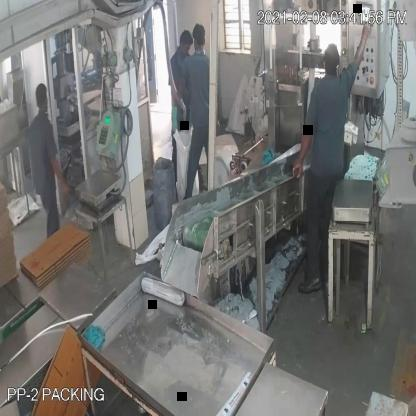no_glove: (286, 124, 316, 180), (44, 150, 74, 200), (349, 23, 374, 72)
